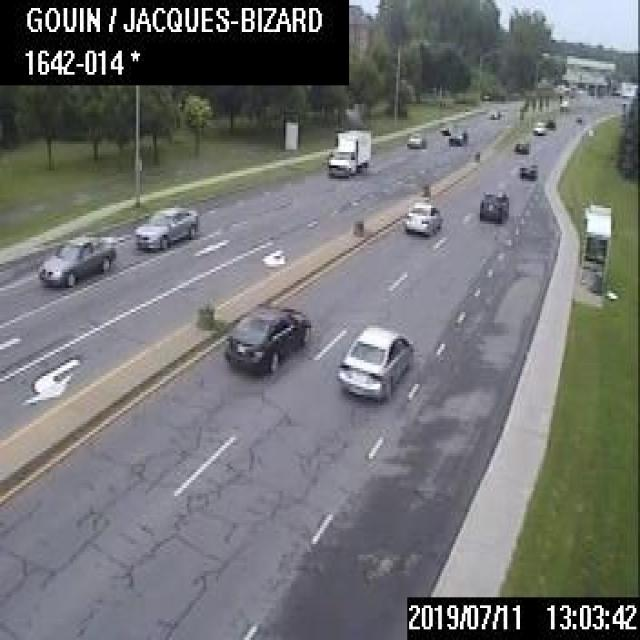vehicle: (335, 323, 412, 399), (223, 305, 309, 373), (38, 234, 114, 286), (133, 205, 196, 249), (326, 128, 369, 176), (404, 202, 441, 234), (478, 188, 508, 221), (518, 158, 536, 178), (446, 128, 466, 144), (405, 131, 426, 146), (532, 119, 544, 133), (513, 140, 527, 151), (486, 108, 500, 118), (544, 116, 554, 128), (439, 125, 450, 132)
